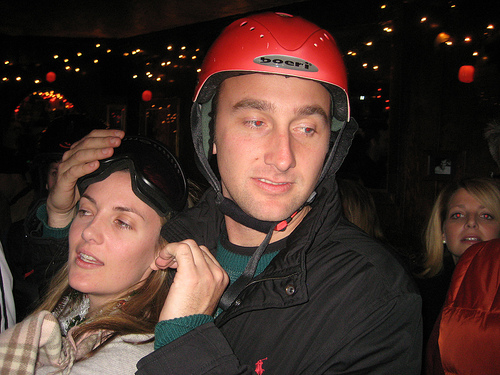helmet: (188, 13, 363, 130)
